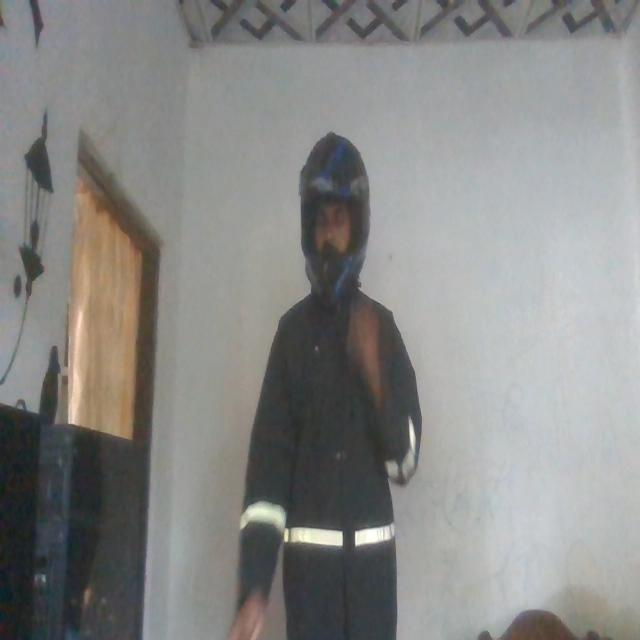Helmet_Wearer: (292, 134, 375, 308)
Jacket_Wearer: (241, 273, 421, 640)
Person: (239, 115, 422, 640)
